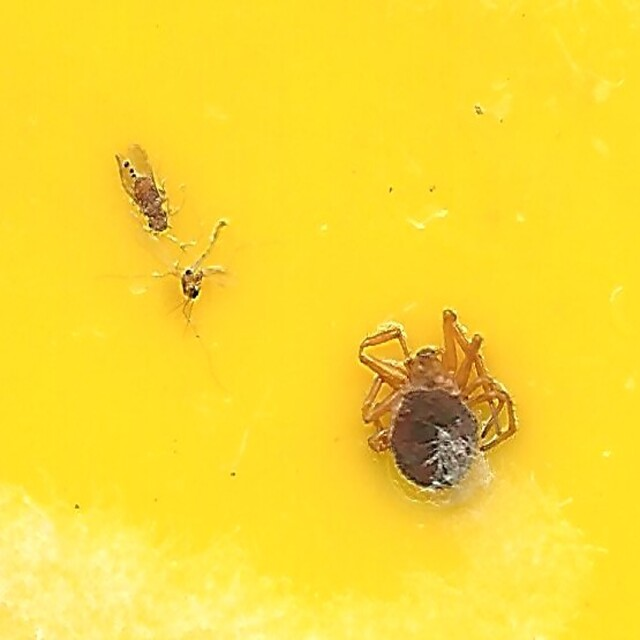Araneae: (352, 307, 525, 497)
Psocoptera: (115, 143, 175, 239)
